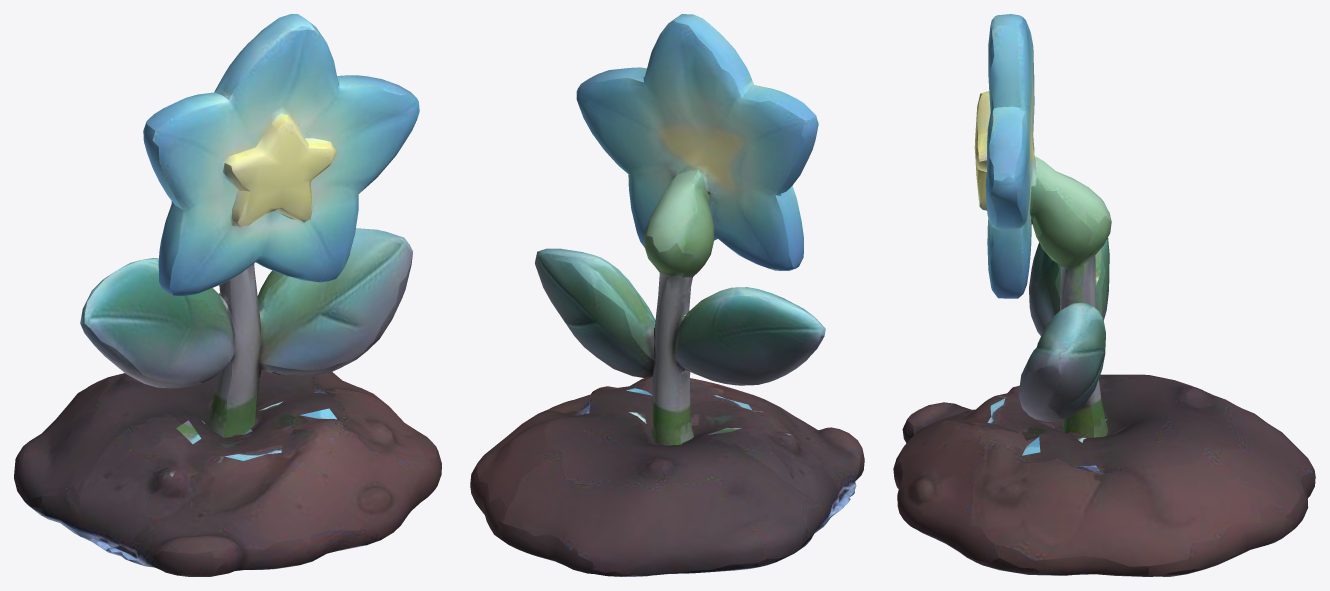
The model's file is crop_moonflower.glb.
3 renders of one model, left to right at view 1: azimuth 30°, elevation 25°; view 2: azimuth 150°, elevation 25°; view 3: azimuth 270°, elevation 25°, orthographic. The views are drawn at different scales.
Parts seen in each view (by area): view 1: crop_moonflower_s15; view 2: crop_moonflower_s15; view 3: crop_moonflower_s15.
Boxes of the visible parts, x1,y1,x2,y2 form: crop_moonflower_s15: (14,14,441,576); crop_moonflower_s15: (470,14,864,576); crop_moonflower_s15: (893,14,1315,576).
Size of the model in its own units: 0.7383 by 1 by 0.7791.
Materials: 1 (1 with a texture image).
